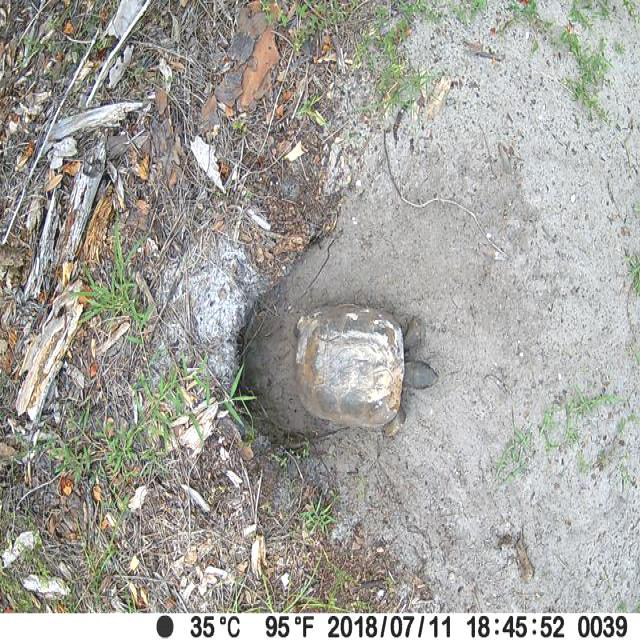tortoise: (290, 300, 439, 438)
